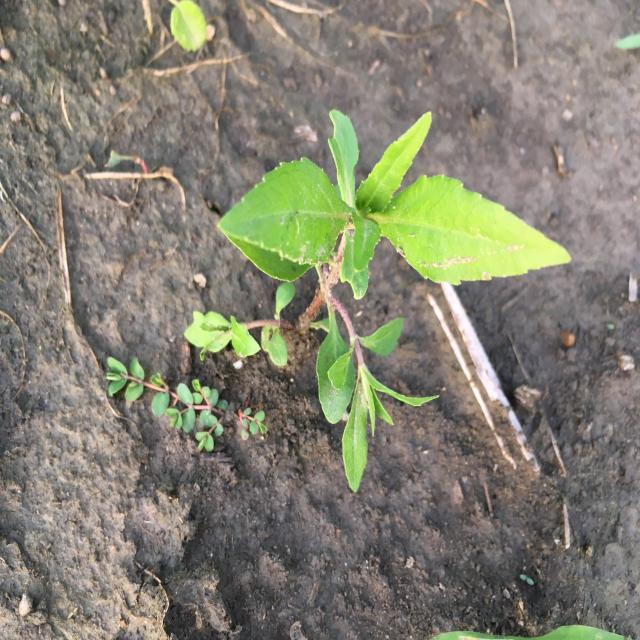Eclipta: (183, 107, 574, 496)
PricklySida: (168, 2, 208, 55)
SpottedSpurge: (104, 354, 270, 455)
